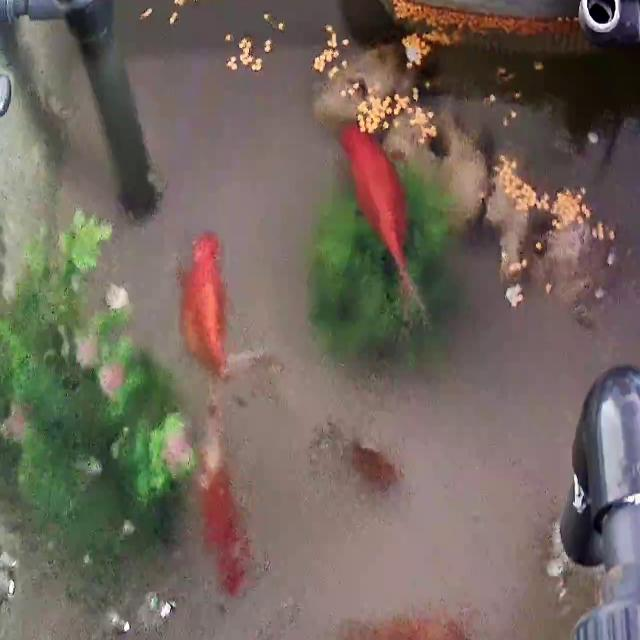fish: (338, 120, 419, 326), (196, 406, 254, 596), (179, 232, 230, 382), (343, 612, 467, 640), (349, 442, 400, 493)
